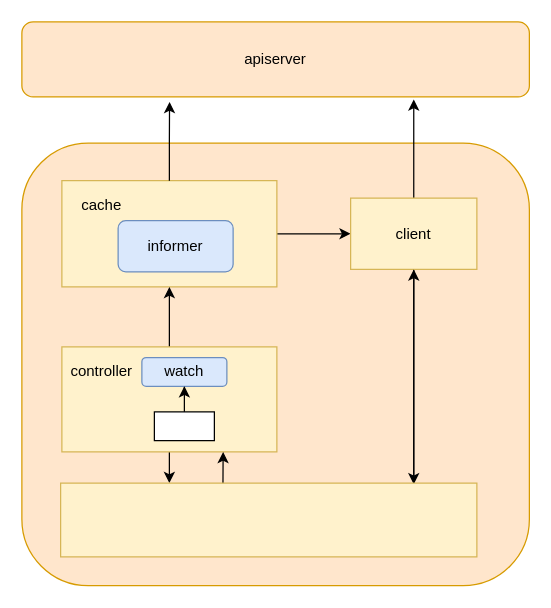
Some shapes in this 551 by 608 pixel diagram are drawn without their labels. Each missing label, with the centre of its shape:
"queue" belongs at pixel 183 426.
"reconcile" belongs at pixel 268 519.
